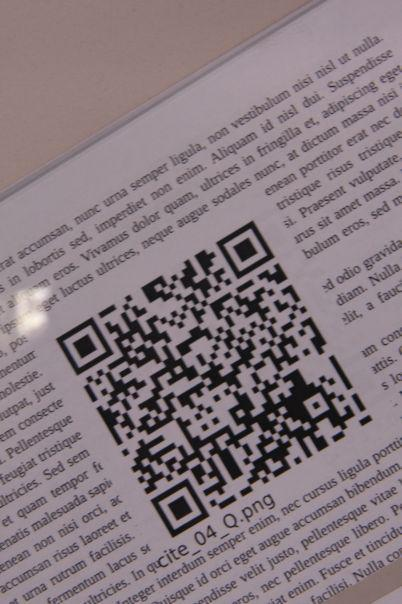Finder pattern: (53, 316, 119, 378), (217, 220, 276, 283), (151, 480, 212, 539)
